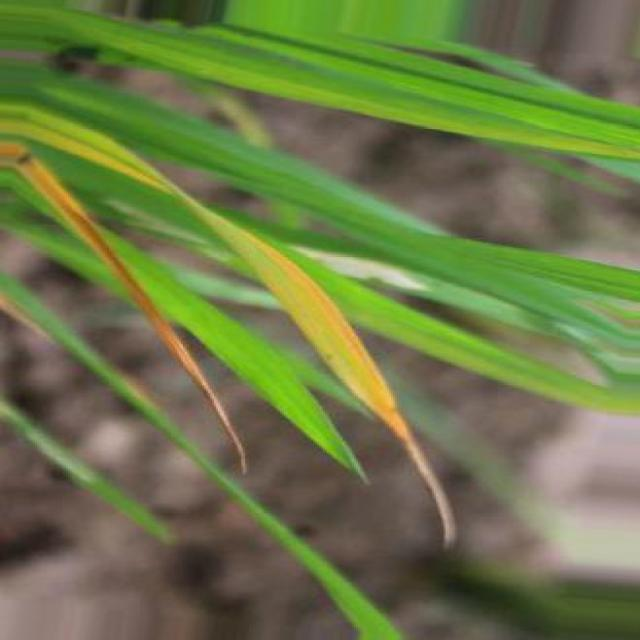Rice Tungro: (196, 201, 457, 547), (0, 144, 244, 471)
